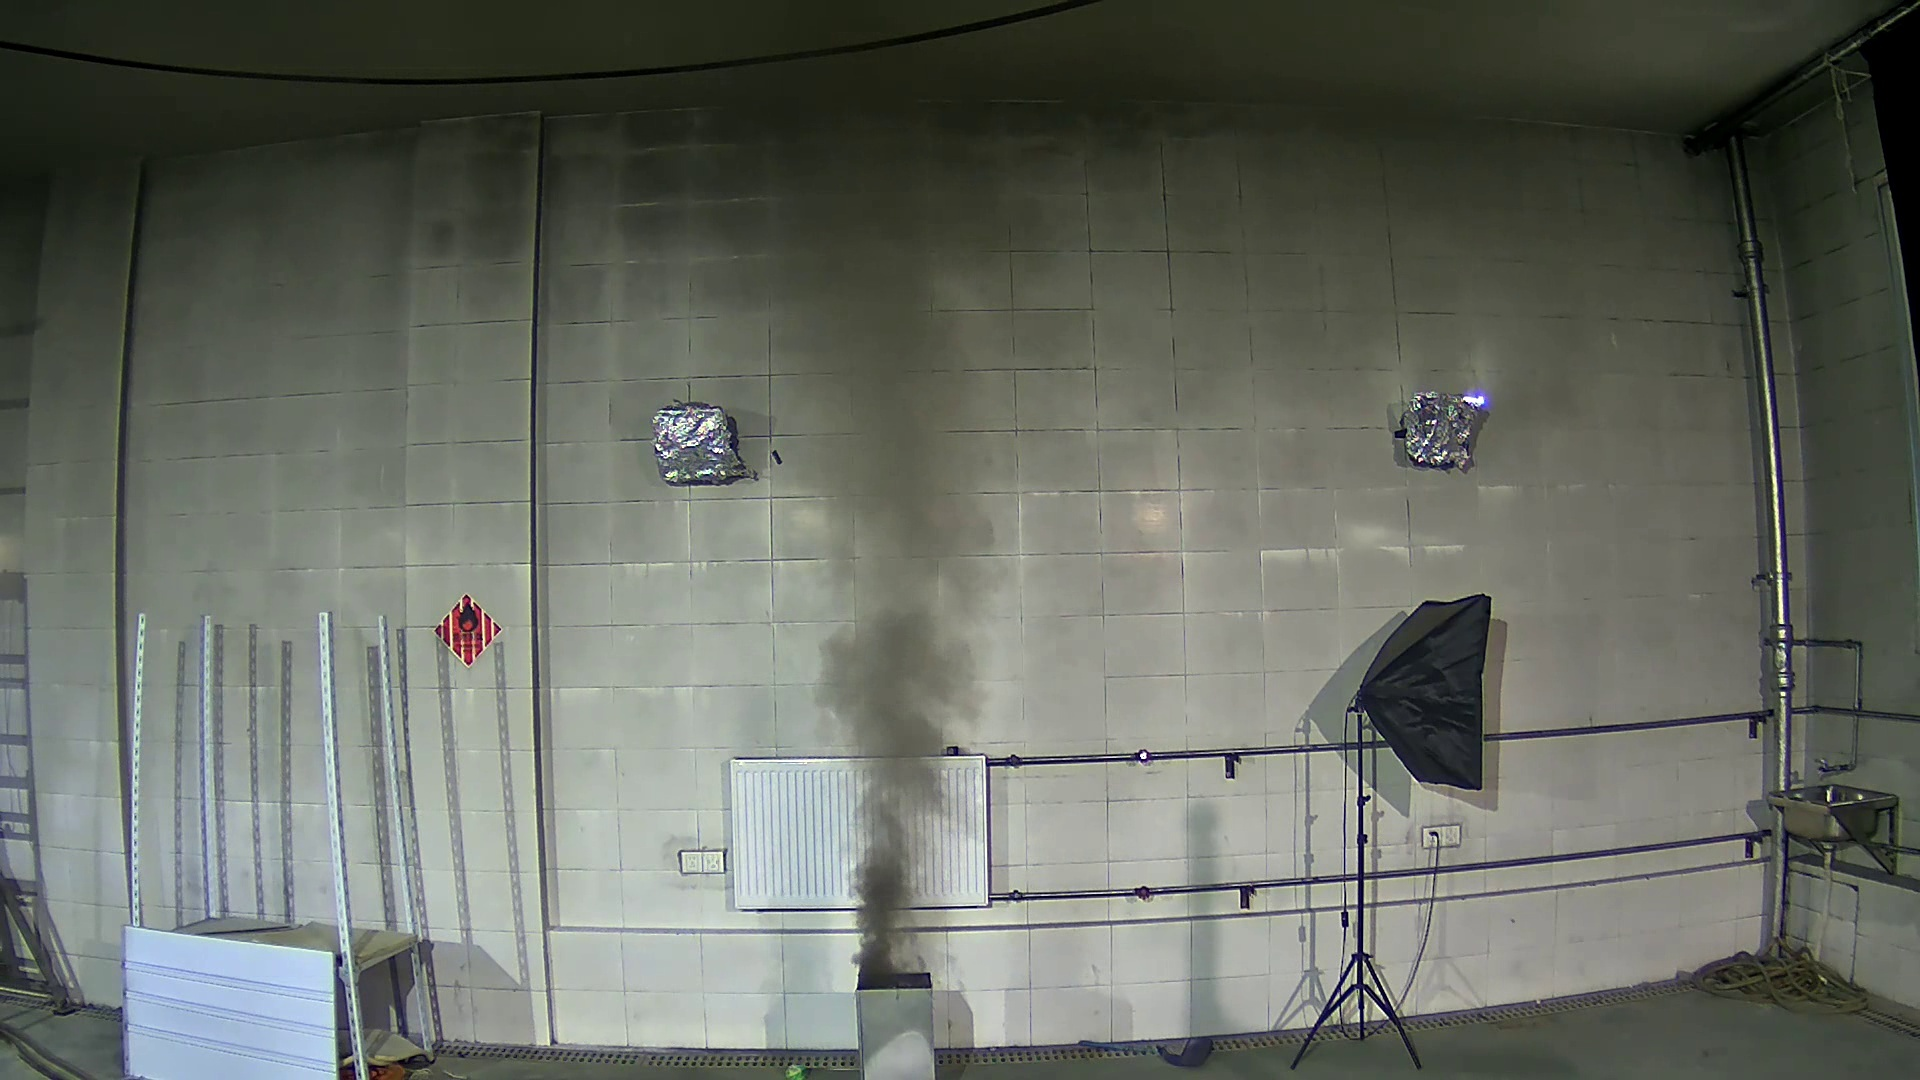smoke: (794, 588, 1019, 984)
